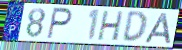1: (87, 9, 101, 43)
8: (24, 6, 47, 40)
A: (143, 12, 173, 45)
D: (121, 11, 149, 45)
H: (96, 10, 125, 43)
P: (45, 6, 73, 40)
